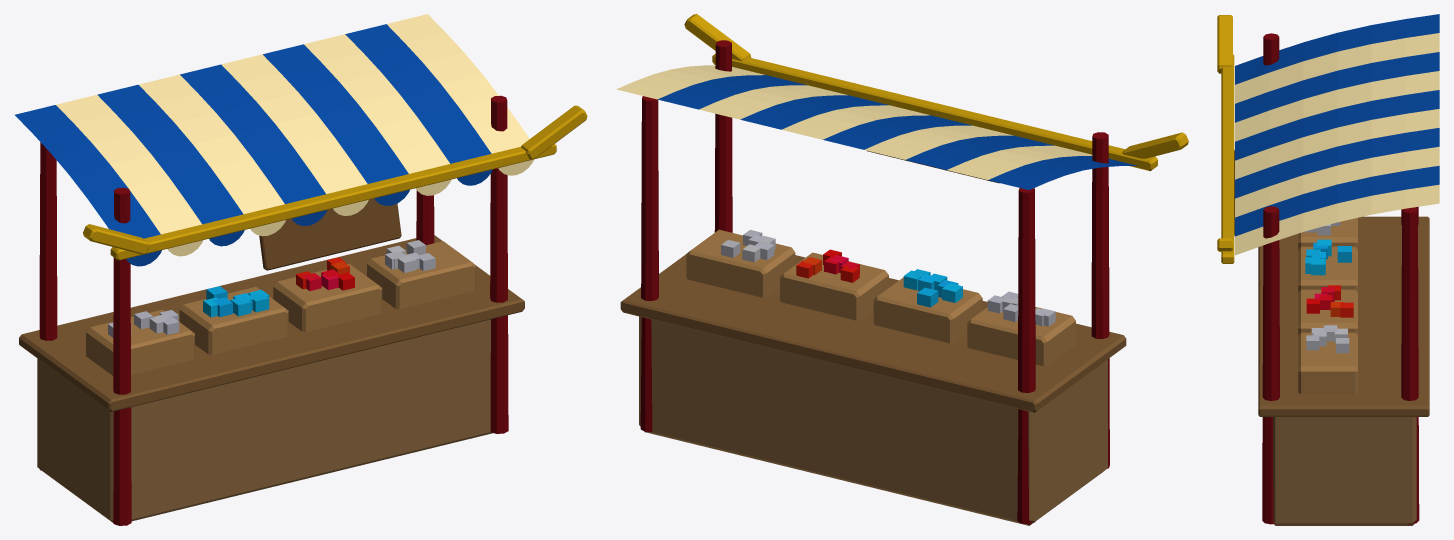
File: stall_gadgets.glb
The picture shows the model from 3 angles, left to right: view 1: azimuth 30°, elevation 25°; view 2: azimuth 150°, elevation 25°; view 3: azimuth 270°, elevation 25°; orthographic projection. The views are drawn at different scales.
Parts seen in each view (by area): view 1: stall_gadgets_wood, stall_gadgets_fabric, stall_gadgets_fruit; view 2: stall_gadgets_wood, stall_gadgets_fabric, stall_gadgets_fruit; view 3: stall_gadgets_wood, stall_gadgets_fabric, stall_gadgets_fruit.
Part boxes in pixels (x1,y1,x2,y2): stall_gadgets_wood: [19, 95, 587, 525]; stall_gadgets_fabric: [15, 14, 533, 266]; stall_gadgets_fruit: [108, 240, 435, 337]; stall_gadgets_wood: [620, 14, 1188, 525]; stall_gadgets_fabric: [616, 65, 1137, 189]; stall_gadgets_fruit: [721, 229, 1055, 326]; stall_gadgets_wood: [1217, 15, 1429, 525]; stall_gadgets_fabric: [1235, 14, 1439, 255]; stall_gadgets_fruit: [1304, 222, 1353, 353].
Size of the model in its own units: 4.1 by 2.75 by 1.68.
